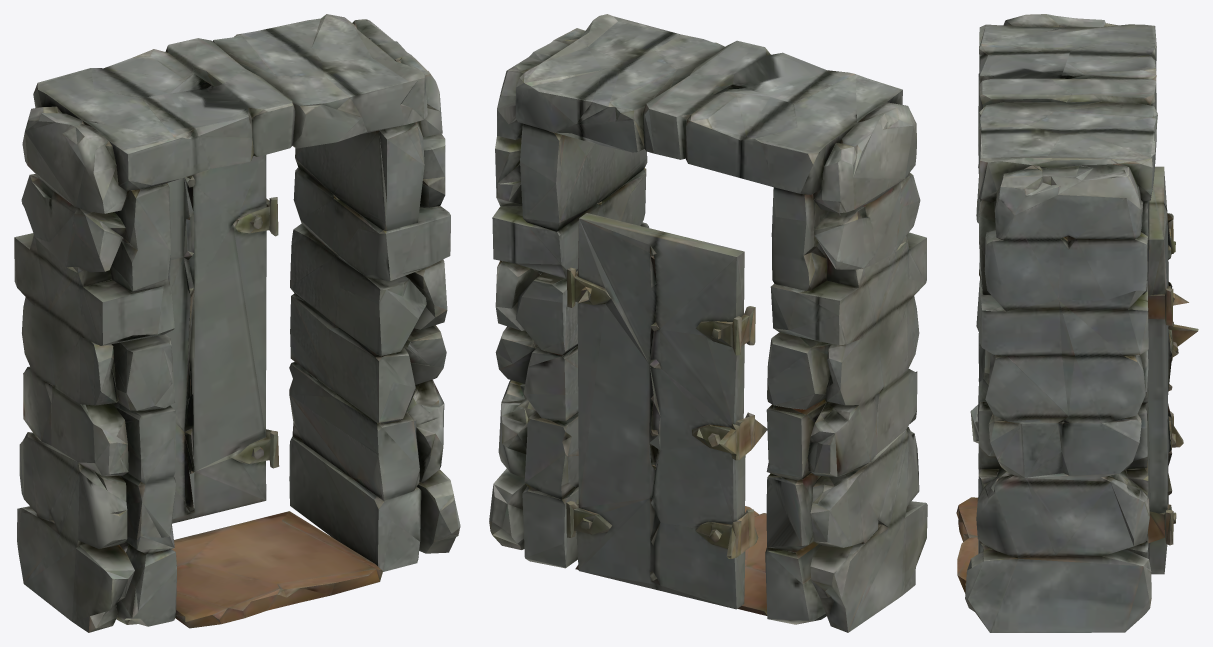
The model's file is door_plains.glb.
3 renders of one model, left to right at view 1: azimuth 30°, elevation 25°; view 2: azimuth 150°, elevation 25°; view 3: azimuth 270°, elevation 25°, orthographic. The views are drawn at different scales.
Bounding box in the file's own units: 1.43 × 1.9 × 0.8956.
Materials: 1 (1 with a texture image).
